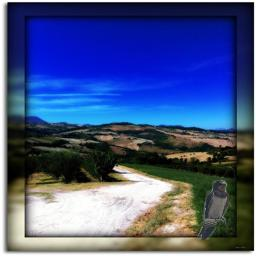Swallow: (197, 180, 229, 240)
